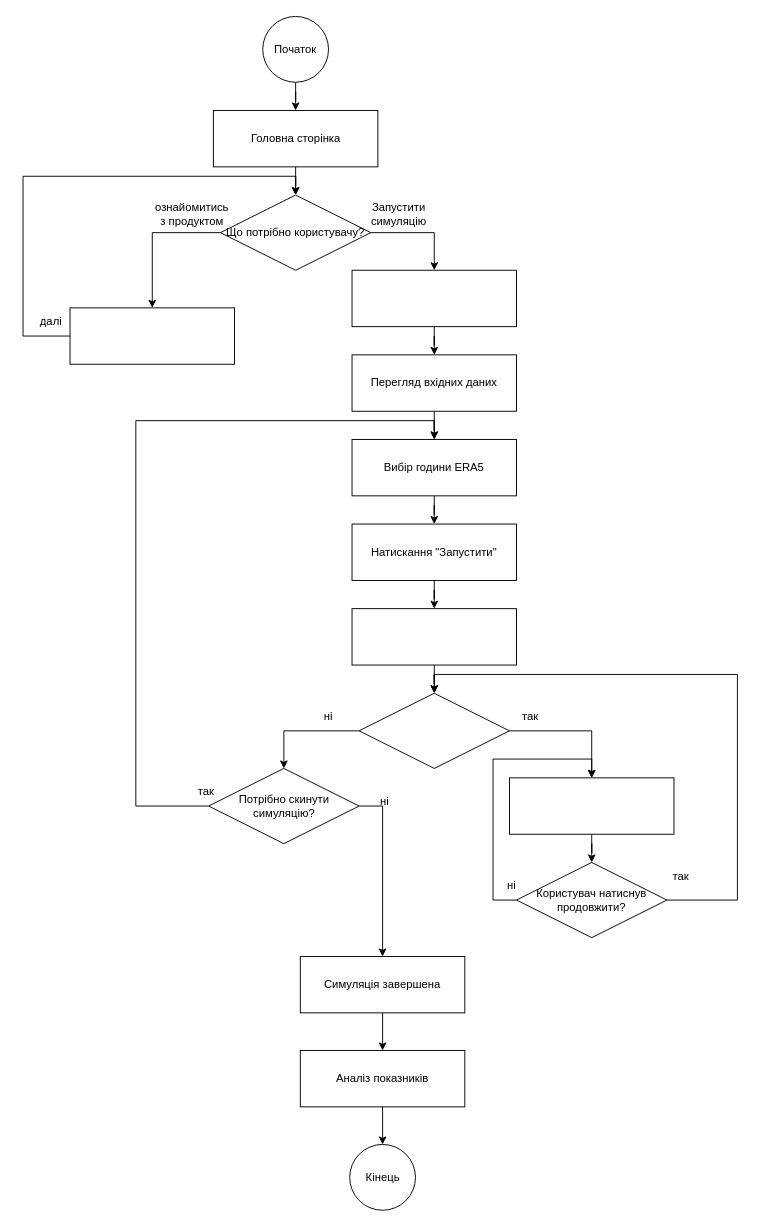
This 761x1227 diagram has some shape labels left out. The shapes that lost their labels are listed below. From the top down, each one's centre as x and y in pixels, then its label:
(434,298): Сторінка "Симулятор"
(152,335): Сторінки "Методологія", "Джерала даних", "Про проєкт"
(434,636): Симуляція виконується
(433,730): Потрібна пауза?
(591,805): Стан "пауза"
